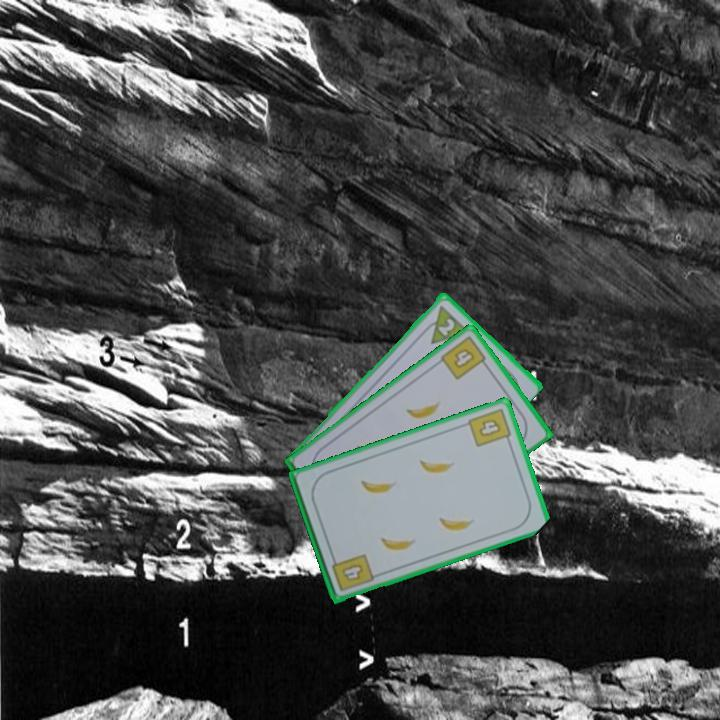2p: (434, 314, 458, 338)
4b: (437, 332, 492, 383), (464, 404, 514, 450), (328, 550, 376, 594)
